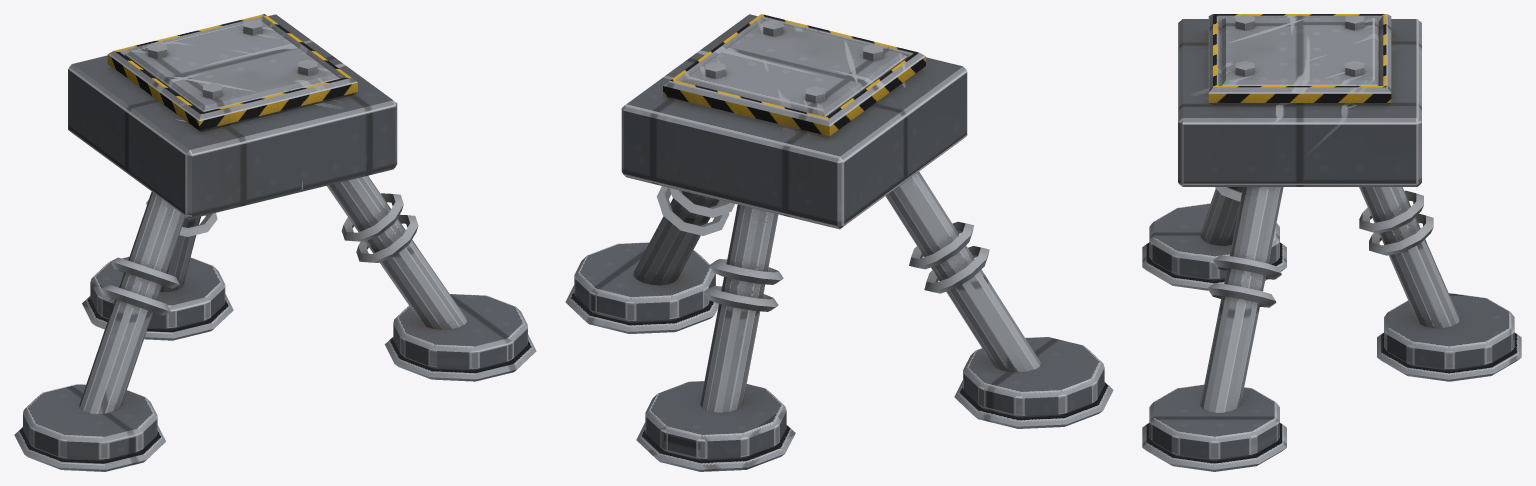
The model's file is tren_aterrizaje_fijo_t1.fbx.
3 views of the same model, side by side, from view 1: azimuth 30°, elevation 25°; view 2: azimuth 150°, elevation 25°; view 3: azimuth 270°, elevation 25° (orthographic). The views are drawn at different scales.
Visible parts, largest first — view 1: tren_aterrizaje_fijo_t1; view 2: tren_aterrizaje_fijo_t1; view 3: tren_aterrizaje_fijo_t1.
Part boxes in pixels (left/top/right/bottom): tren_aterrizaje_fijo_t1: left=14, top=14, right=536, bottom=471; tren_aterrizaje_fijo_t1: left=565, top=14, right=1113, bottom=471; tren_aterrizaje_fijo_t1: left=1142, top=14, right=1521, bottom=471.
Size of the model in its own units: 3.8 by 2.26 by 2.49.
